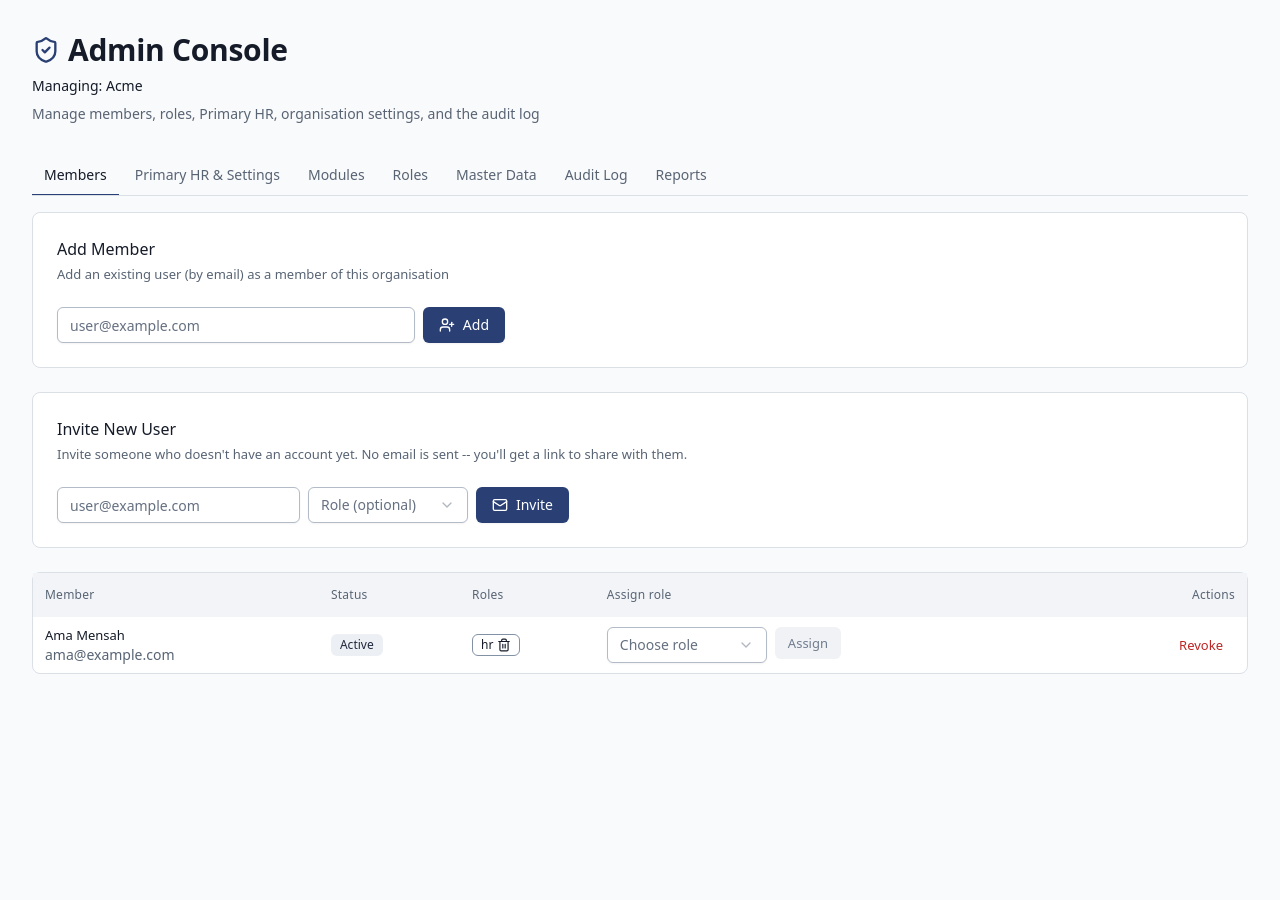
Admin console — revoke a role from a member › opens a confirmation naming the member and role, and Cancel revokes nothing
Click the button with test id "button-revoke-role-55-hr" at (504, 645), box 497,638 -> 511,652
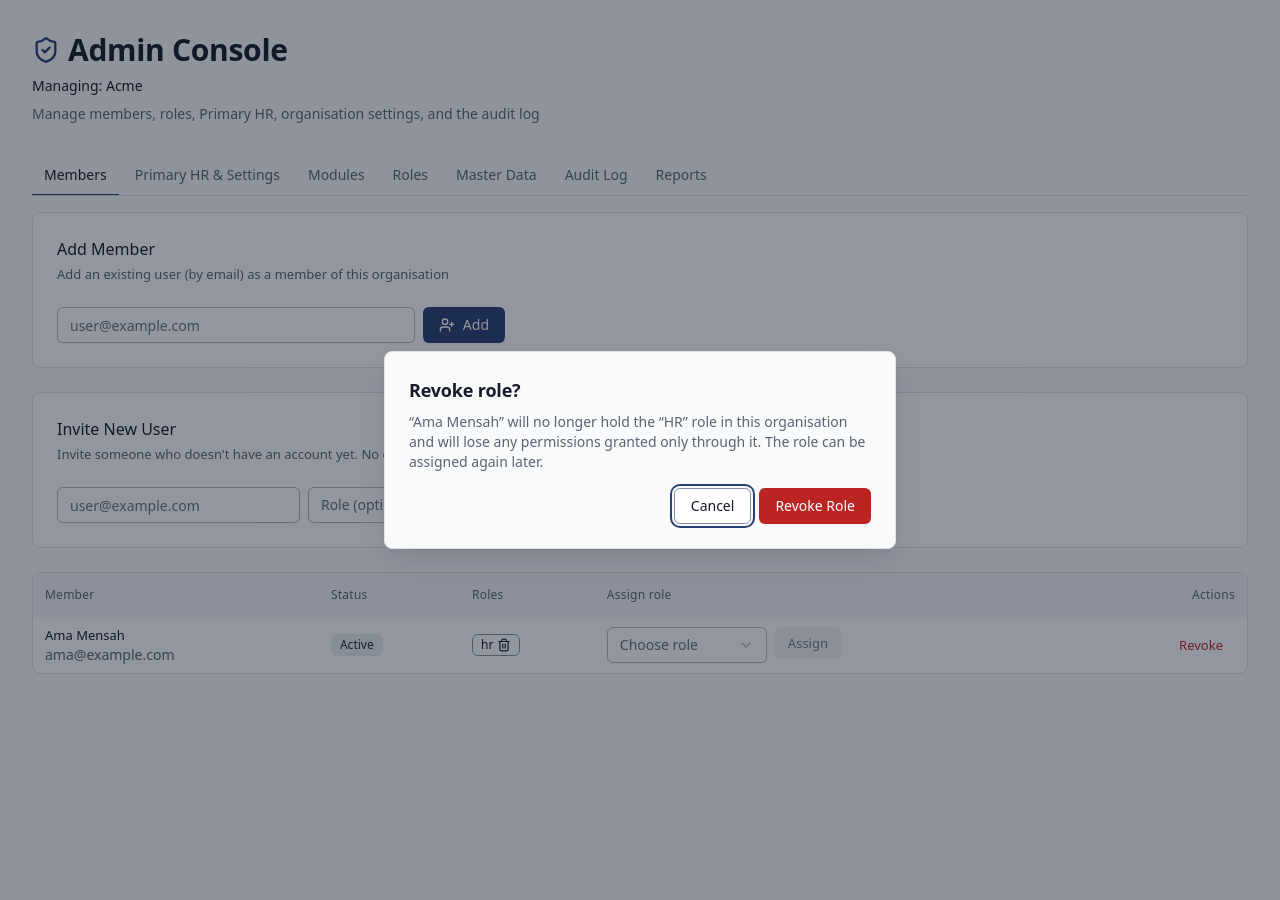
Expected: the dialog with test id "dialog-revoke-role" shows "Revoke role?", 409,378 -> 520,402
Expected: the dialog with test id "dialog-revoke-role" shows "“Ama Mensah” will no longer hold the “HR” role", 384,351 -> 896,549
Click the button "Cancel" at (713, 506), box 674,488 -> 751,524
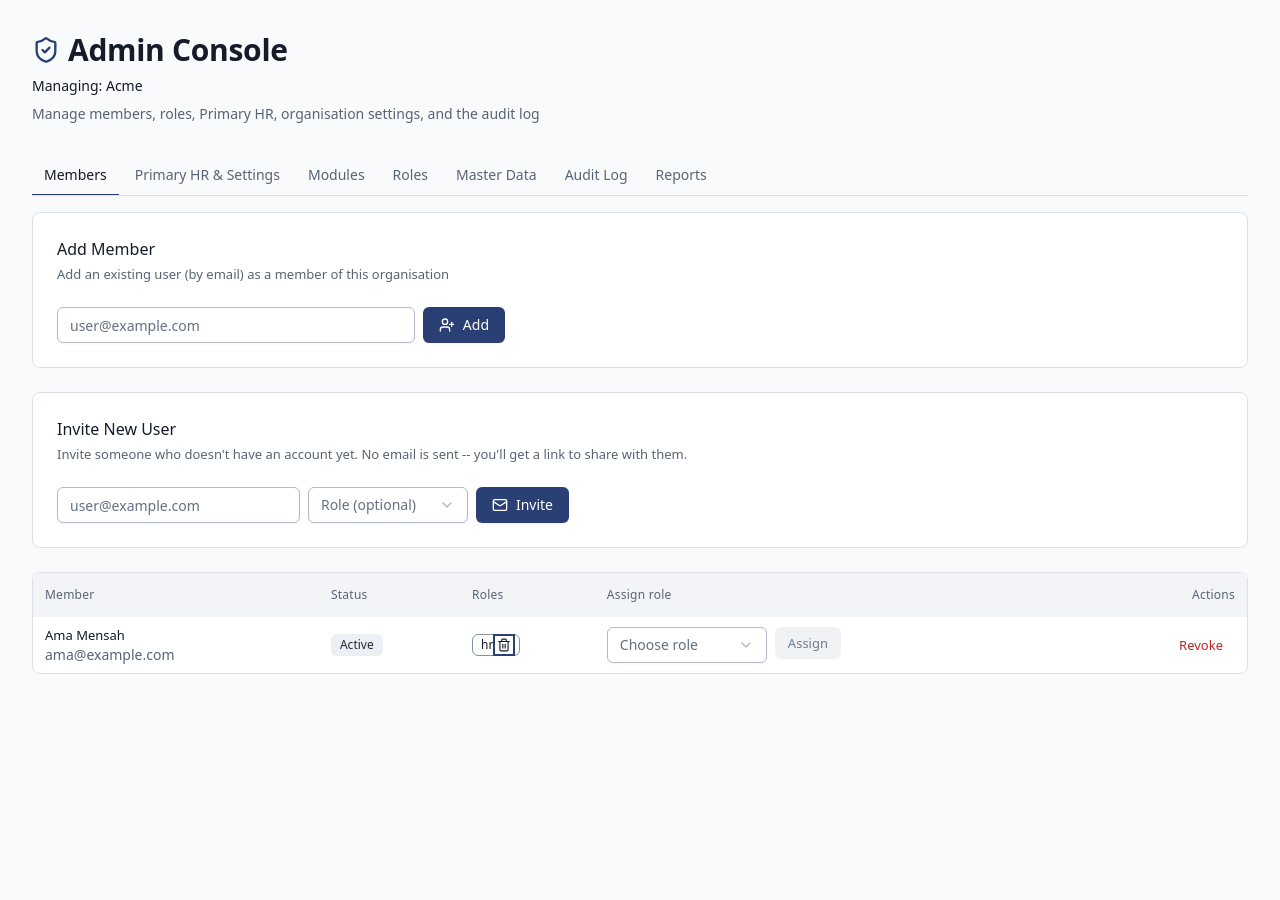
Expected: the dialog with test id "dialog-revoke-role" is gone
